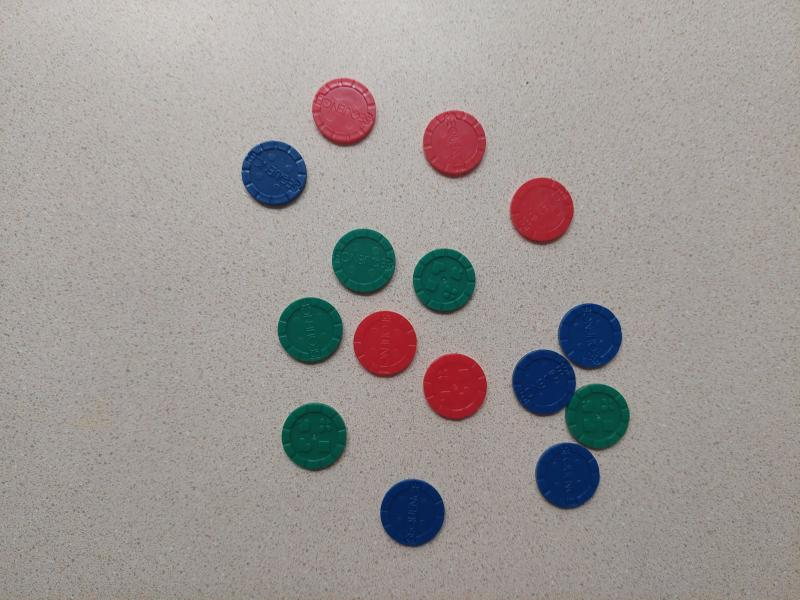Blue_Token: (552, 292, 627, 376), (528, 436, 608, 514), (373, 474, 450, 553), (506, 342, 581, 421), (237, 138, 312, 211)
Green_Token: (276, 396, 354, 483), (271, 295, 348, 370), (408, 242, 482, 317), (561, 379, 636, 453), (330, 222, 402, 299)
Red_Token: (415, 104, 502, 183), (306, 74, 386, 147), (348, 307, 423, 382), (419, 347, 492, 424), (505, 174, 580, 247)
